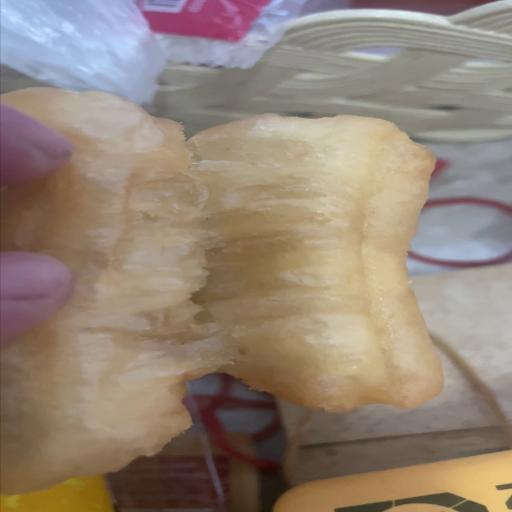street_golden_defect: (0, 110, 445, 507)
